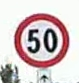limite 50: (12, 12, 68, 68)
